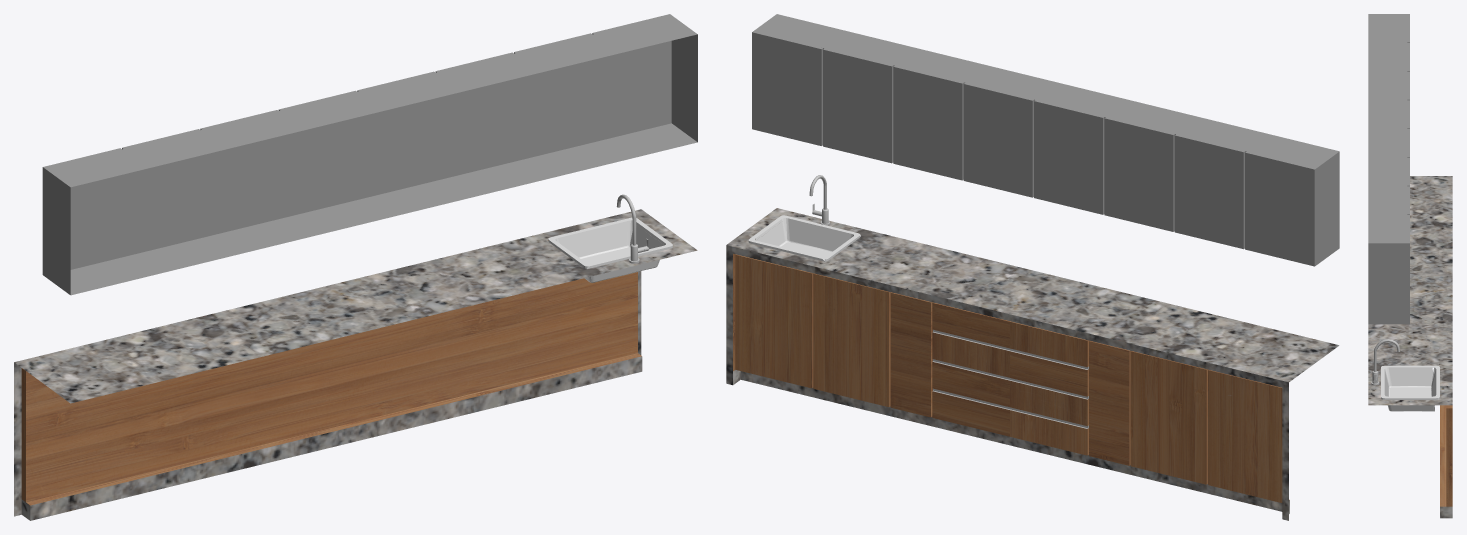
The model's file is MSH_Cocineta-coworking.fbx.
3 renders of one model, left to right at view 1: azimuth 30°, elevation 25°; view 2: azimuth 150°, elevation 25°; view 3: azimuth 270°, elevation 25°, orthographic. The views are drawn at different scales.
Visible parts, largest first — view 1: MSH_Cocina_Coworking; view 2: MSH_Cocina_Coworking; view 3: MSH_Cocina_Coworking.
Part boxes in pixels (left/top/right/bottom): MSH_Cocina_Coworking: left=14, top=14, right=697, bottom=520; MSH_Cocina_Coworking: left=726, top=14, right=1339, bottom=520; MSH_Cocina_Coworking: left=1368, top=14, right=1452, bottom=518.
Size of the model in its own units: 425 by 240 by 66.3.
